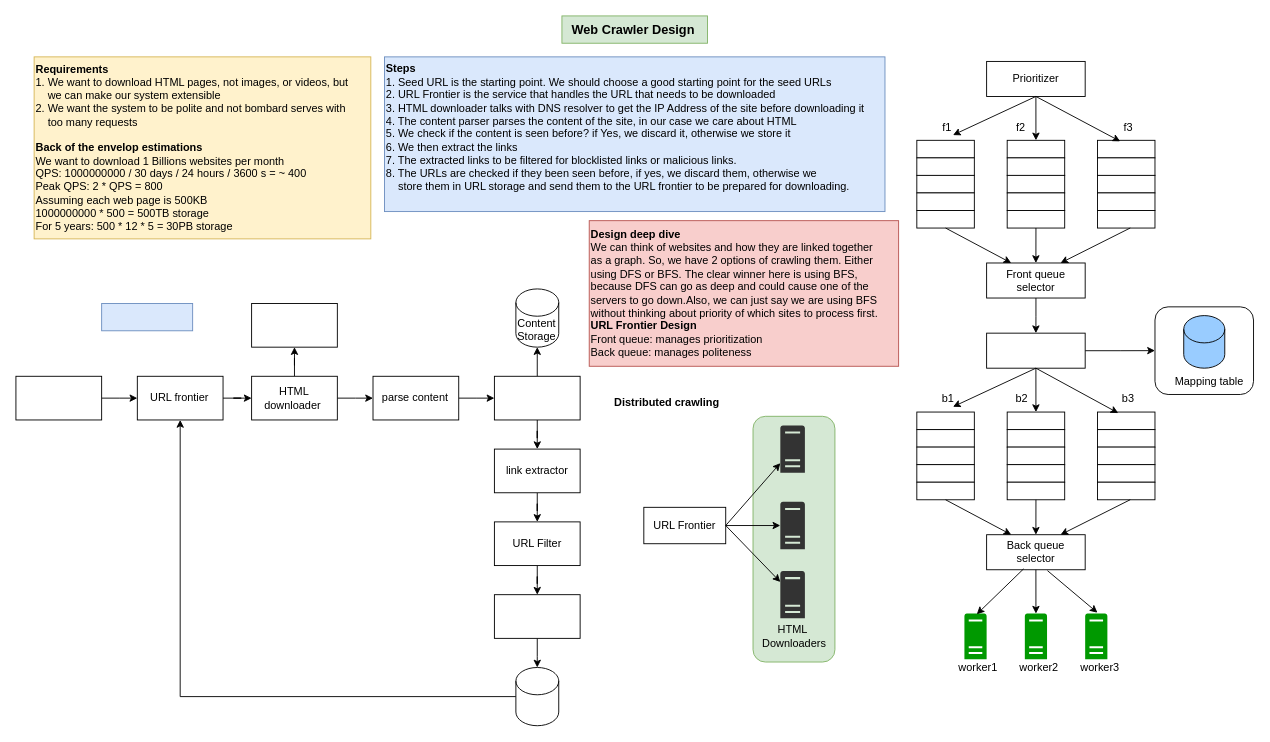
Image size: 1270x742. Some labels were removed from this diagram. The shapes that lost their labels are listed below. From the top down, each one's centre as x and y in pixels, then its label:
At pixel 147 317: "Simple Design".
At pixel 294 325: "DNS resolver".
At pixel 1035 350: "Back queue router".
At pixel 58 397: "seed URLs".
At pixel 536 397: "Content seen?".
At pixel 536 616: "URL seen?".
At pixel 537 696: "URL Storage".
